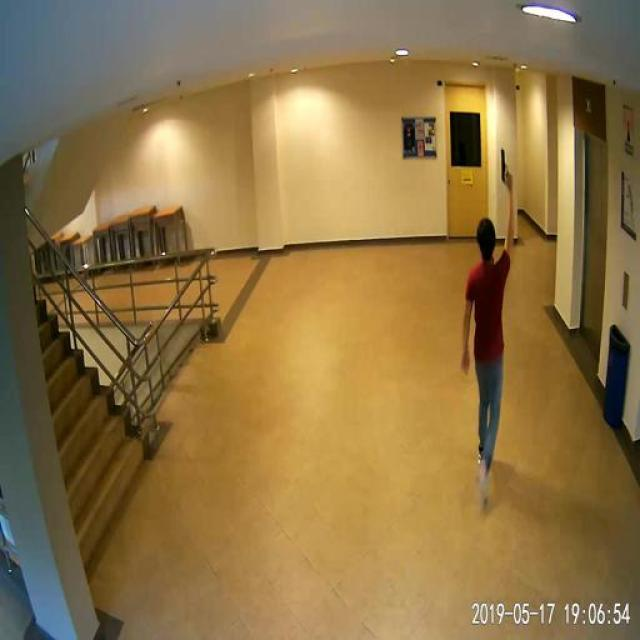Gun: (489, 142, 520, 196)
